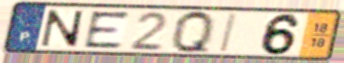2: (128, 10, 171, 52)
6: (257, 12, 304, 57)
E: (82, 10, 132, 50)
I: (217, 12, 241, 54)
N: (39, 8, 85, 49)
Q: (171, 8, 216, 56)
